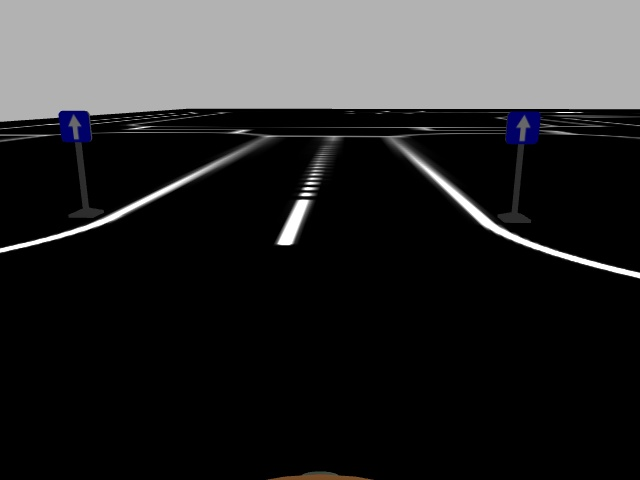oneway: (505, 109, 543, 148), (57, 108, 95, 146)
